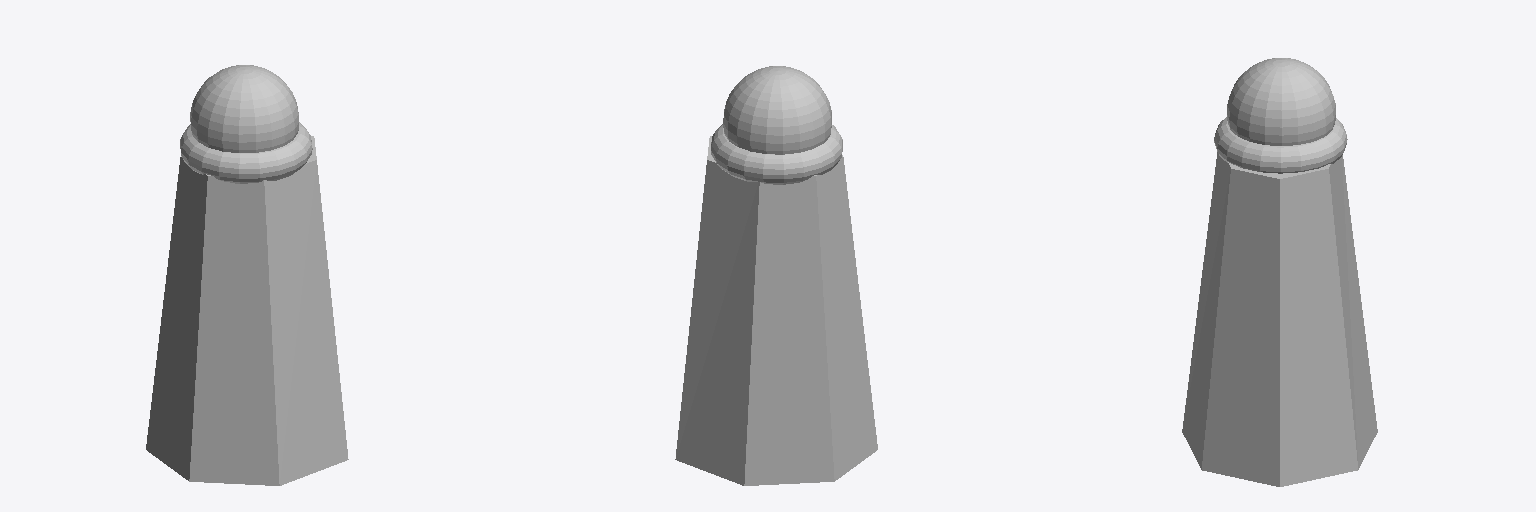
The model's file is salt-shaker.obj.
3 renders of one model, left to right at view 1: azimuth 30°, elevation 25°; view 2: azimuth 150°, elevation 25°; view 3: azimuth 270°, elevation 25°, orthographic.
Parts seen in each view (by area): view 1: pCylinder1, pSphere1, pTorus1; view 2: pCylinder1, pSphere1, pTorus1; view 3: pCylinder1, pSphere1, pTorus1.
Part boxes in pixels (left/top/right/bottom): pCylinder1: left=146, top=136, right=348, bottom=485; pSphere1: left=190, top=65, right=298, bottom=152; pTorus1: left=180, top=122, right=312, bottom=183; pCylinder1: left=675, top=136, right=877, bottom=485; pSphere1: left=723, top=66, right=831, bottom=154; pTorus1: left=711, top=124, right=842, bottom=184; pCylinder1: left=1182, top=152, right=1377, bottom=486; pSphere1: left=1227, top=58, right=1335, bottom=145; pTorus1: left=1214, top=117, right=1347, bottom=173.
Bounding box in the file's own units: 1.98 × 4.02 × 1.89.